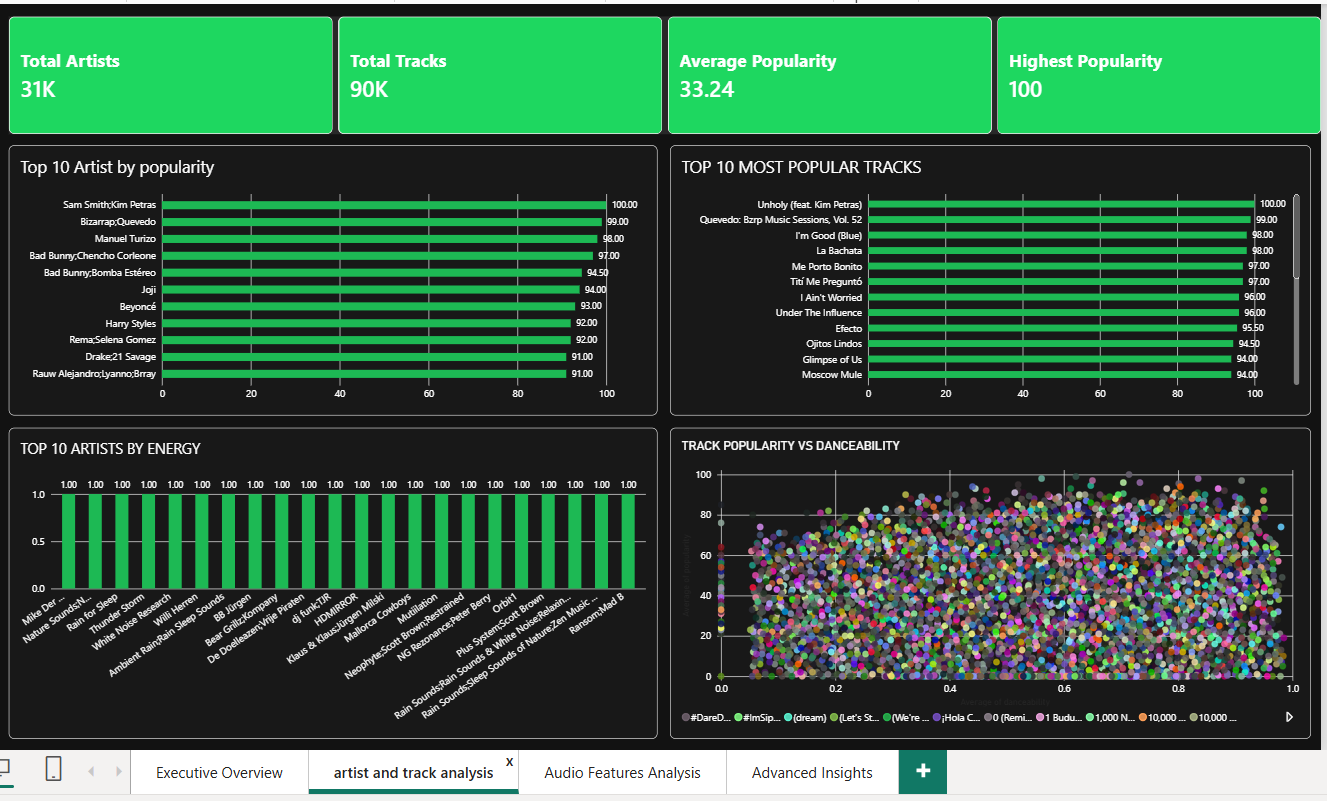

The dashboard page shown, as its layout file describes it:
{"tool":"powerbi","page":{"name":"artist and track analysis","canvas":[1920,1080],"ordinal":1},"visuals":[{"type":"cardVisual","fields":{"Data":["Measures (2).Total Artists","Measures (2).Total Tracks","Measures (2).Average Popularity","Max(FactTracks.popularity)"]},"box":[19.9,18.1,1900.1,170.1],"z":0},{"type":"clusteredBarChart","title":"Top 10 Artist by popularity","fields":{"Category":["FactTracks.artists"],"Y":["Avg(FactTracks.popularity)"]},"box":[19.9,204.5,939.2,390.9],"z":1},{"type":"clusteredBarChart","title":"TOP 10 MOST POPULAR TRACKS","fields":{"Category":["FactTracks.track_name"],"Y":["Avg(FactTracks.popularity)"]},"box":[977.2,204.5,928.4,390.9],"z":2},{"type":"scatterChart","title":"TRACK POPULARITY VS DANCEABILITY","fields":{"Category":["FactTracks.track_id"],"Series":["FactTracks.track_name"],"X":["Avg(FactTracks.danceability)"],"Y":["Avg(FactTracks.popularity)"]},"box":[977.2,613.5,928.4,450.6],"z":3},{"type":"clusteredColumnChart","title":"TOP 10 ARTISTS BY ENERGY","fields":{"Category":["FactTracks.artists"],"Y":["Measures (2).Average Energy"]},"box":[19.9,613.5,939.2,450.6],"z":4}]}

Visuals, with their boxes on the page's 1920x1080 design canvas (x1, y1, x2, y2). These are canvas units, not pixel positions in the 1327x801 screenshot, which may show the page scaled, cropped or inside an application window:
cardVisual - Measures (2).Total Artists x Measures (2).Total Tracks: x1=20 y1=18 x2=1920 y2=188
"Top 10 Artist by popularity" clusteredBarChart: x1=20 y1=204 x2=959 y2=595
"TOP 10 MOST POPULAR TRACKS" clusteredBarChart: x1=977 y1=204 x2=1906 y2=595
"TRACK POPULARITY VS DANCEABILITY" scatterChart: x1=977 y1=614 x2=1906 y2=1064
"TOP 10 ARTISTS BY ENERGY" clusteredColumnChart: x1=20 y1=614 x2=959 y2=1064
